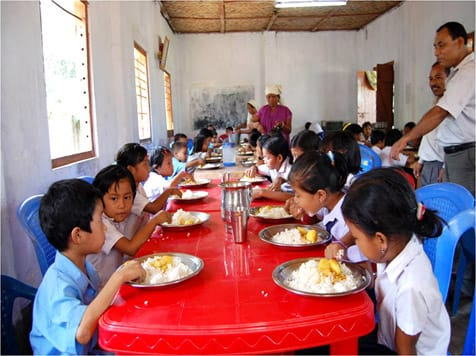student: (339, 173, 417, 262), (31, 185, 107, 256), (281, 159, 340, 210), (91, 160, 138, 219), (315, 135, 360, 173), (283, 132, 327, 166), (116, 143, 151, 183), (260, 138, 293, 177), (146, 137, 176, 176), (170, 136, 190, 164), (255, 135, 277, 159), (193, 132, 211, 154), (370, 128, 387, 147), (362, 119, 377, 136), (403, 119, 416, 135)
